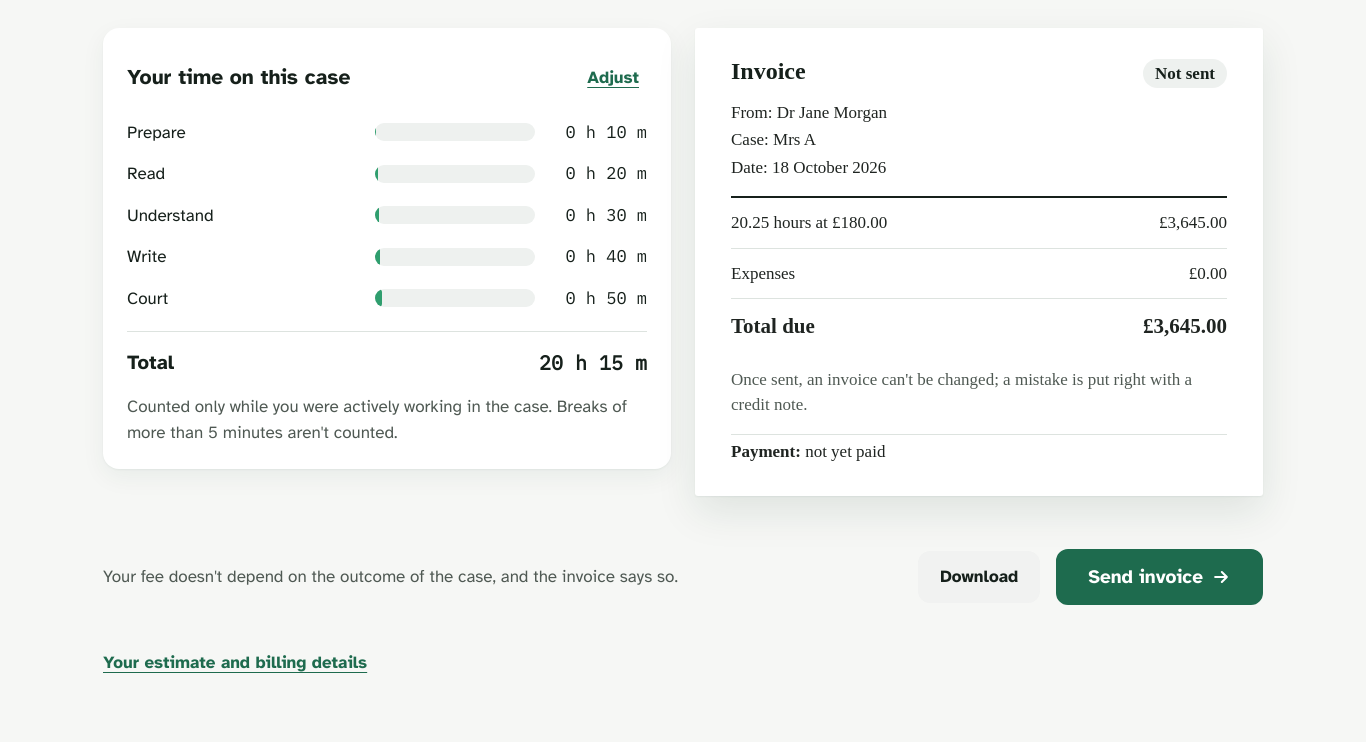
Test case: an invoice already sent says so
(page scrolled)
Click the button "Send invoice" at (1160, 577), box [1056,549,1263,605]
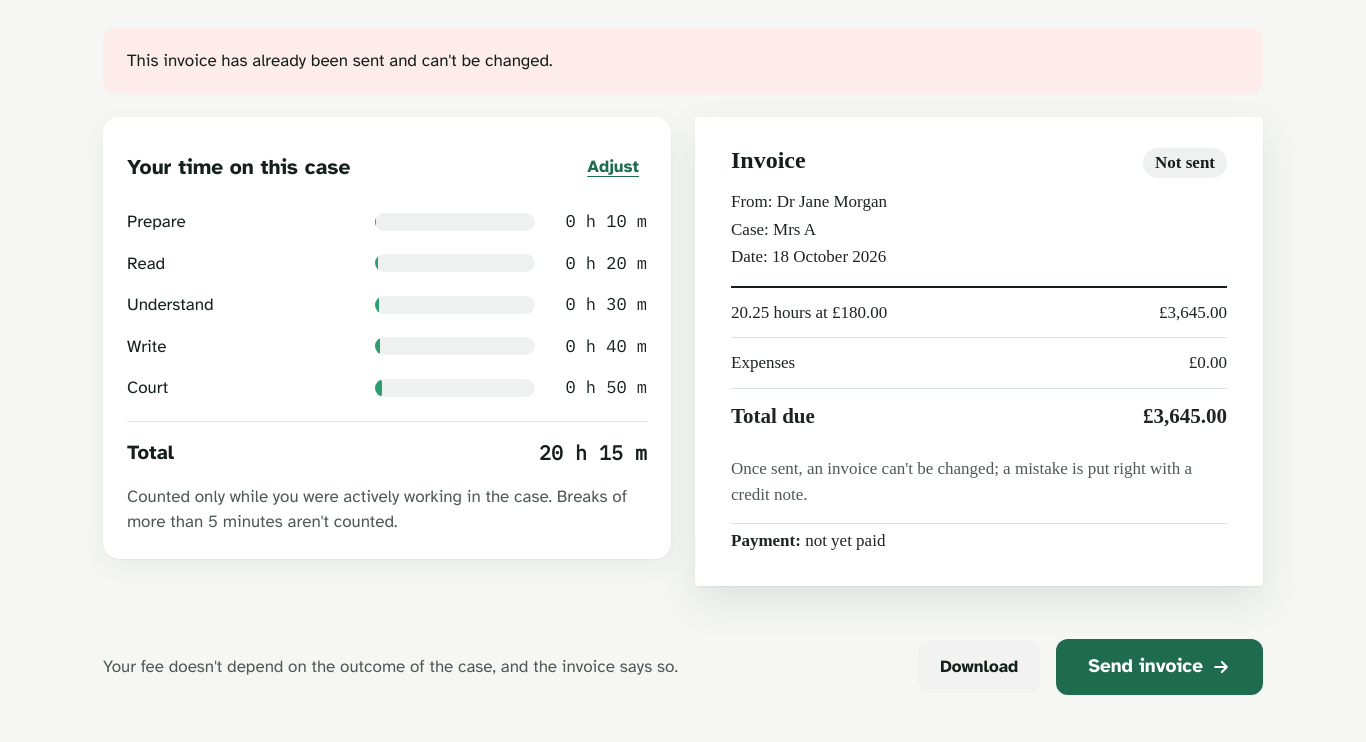
expect the text "This invoice has already been sent and can't be changed." is shown: met, box [127,50,552,70]
